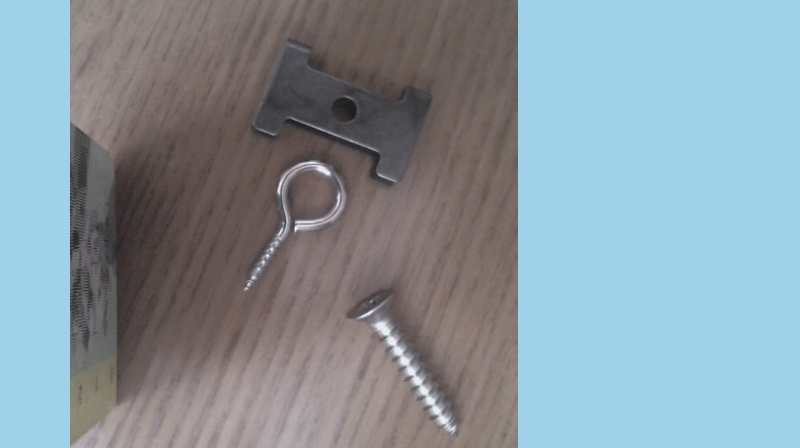O001: (237, 158, 348, 294)
O002: (247, 35, 433, 187)
S001: (341, 286, 462, 444)
